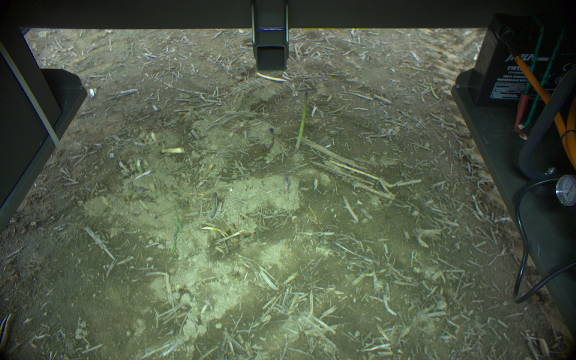aspa: (290, 88, 309, 154), (206, 189, 222, 221), (262, 125, 277, 153), (279, 174, 292, 194)
